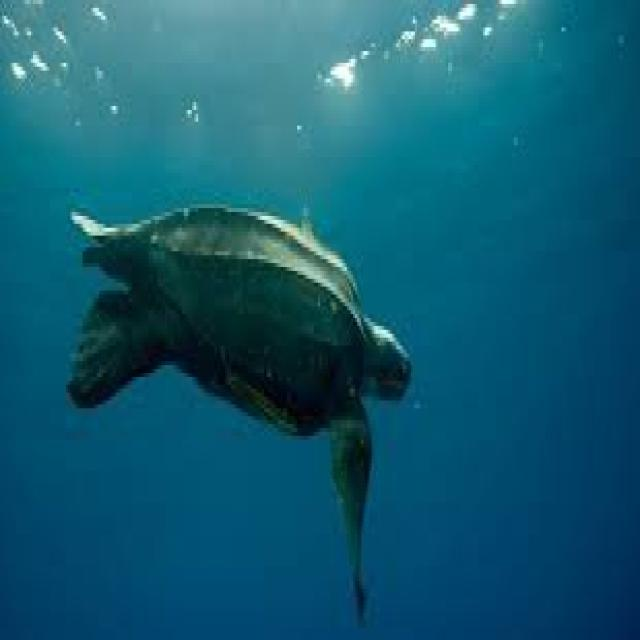turtle: (58, 172, 392, 542)
